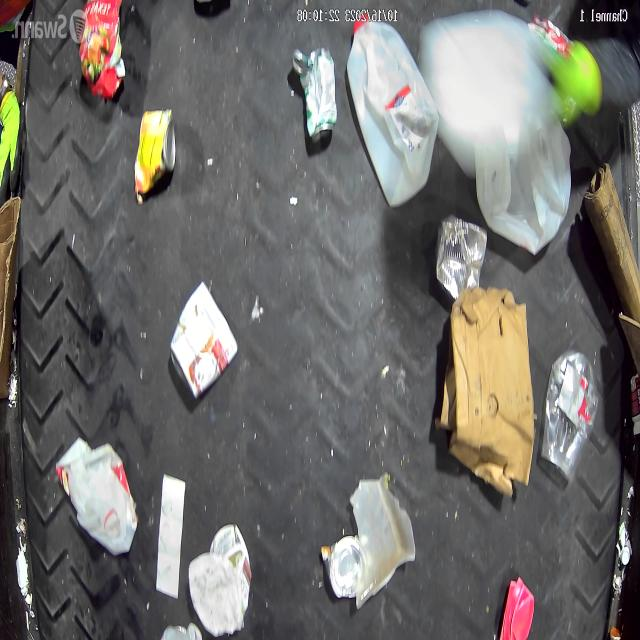can: (169, 280, 238, 401), (432, 214, 487, 304), (133, 109, 176, 196), (302, 46, 337, 143)
milk_jug: (419, 12, 560, 180), (468, 56, 571, 252), (345, 20, 436, 209), (56, 440, 140, 558)
plastic_bottle: (540, 349, 599, 484)
